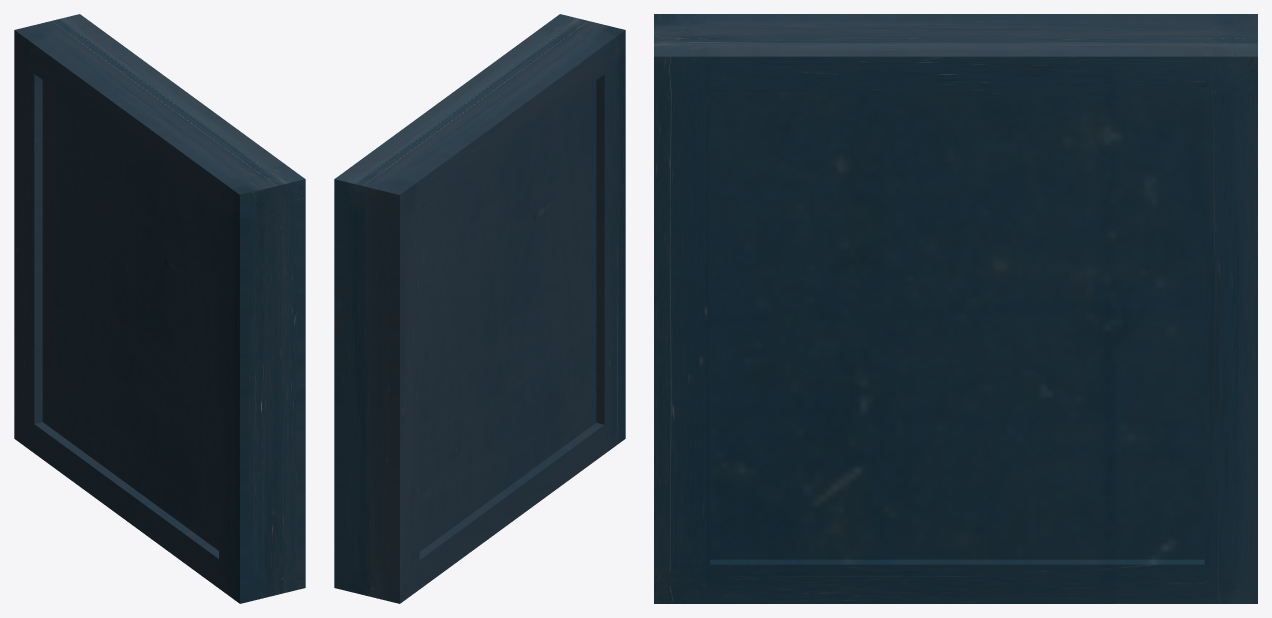
File: blue-wall.glb
3 renders of one model, left to right at view 1: azimuth 30°, elevation 25°; view 2: azimuth 150°, elevation 25°; view 3: azimuth 270°, elevation 25°, orthographic. The views are drawn at different scales.
Parts seen in each view (by area): view 1: Cube-col; view 2: Cube-col; view 3: Cube-col.
Boxes of the visible parts, x1,y1,x2,y2 form: Cube-col: [14, 14, 305, 603]; Cube-col: [334, 14, 625, 603]; Cube-col: [654, 14, 1257, 603].
Bounding box in the file's own units: 0.4188 × 2.5 × 2.5.
1 material, 1 textured.
